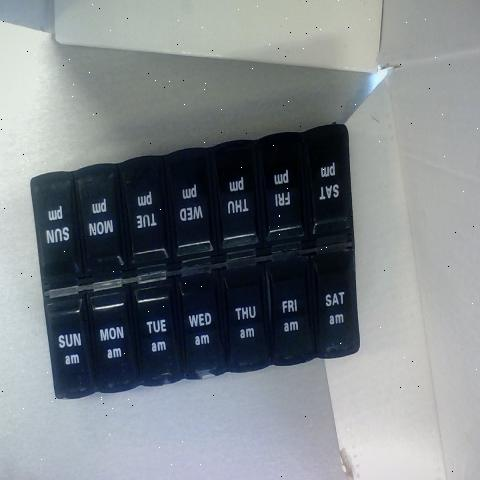FRI-am: (270, 267, 306, 362)
FRI-pm: (263, 140, 297, 248)
MON-am: (90, 289, 134, 392)
MON-pm: (79, 165, 120, 276)
SAT-am: (316, 257, 356, 354)
SAT-pm: (308, 128, 346, 238)
SUN-am: (54, 300, 89, 398)
SUN-pm: (38, 175, 76, 287)
THU-am: (222, 274, 263, 369)
THU-pm: (216, 145, 256, 253)
TUE-am: (136, 278, 176, 382)
TUE-pm: (123, 156, 166, 267)
WED-am: (180, 270, 222, 374)
WED-pm: (170, 150, 211, 262)
